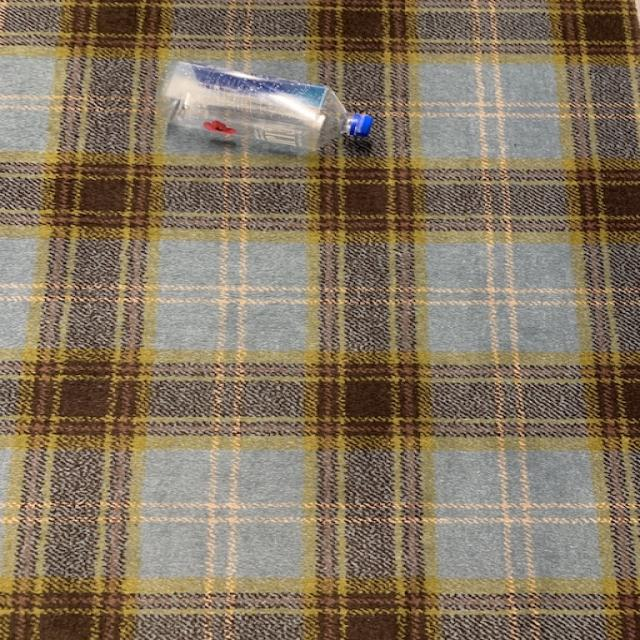litter: (152, 58, 378, 156)
